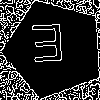E: (29, 24, 67, 72)
